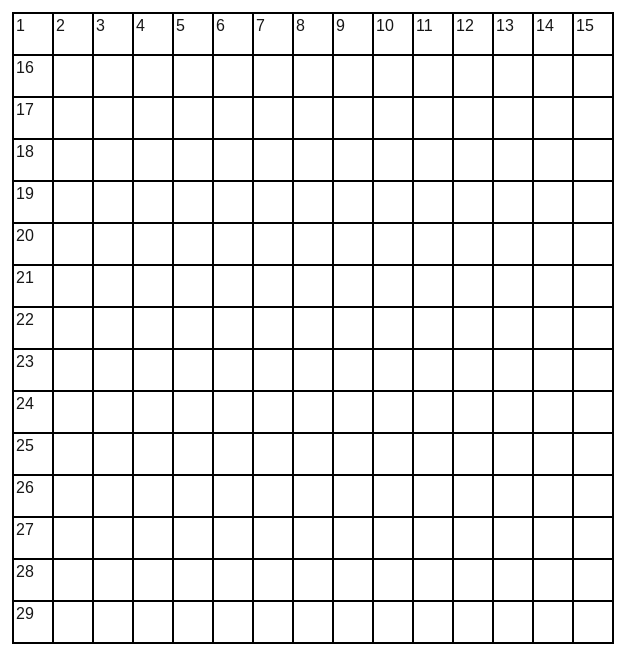
Test: Text Edit Mode › converts a letter entered in the grid to uppercase
Click the 1st field with test id "crossword-input". click: point(34, 34)
box: [14,14,54,54]
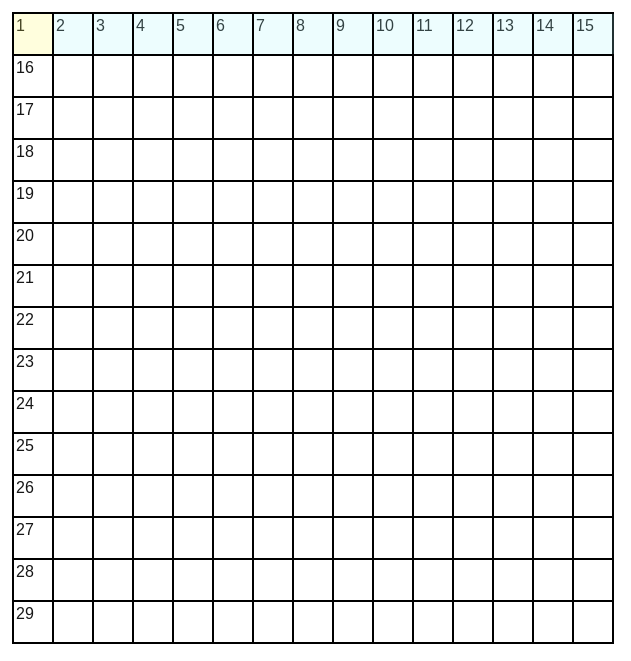
Type keys "a"
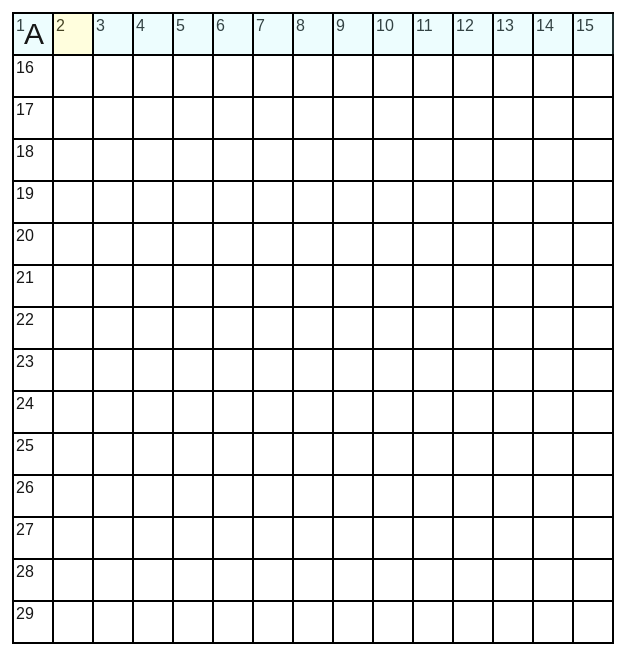
Now the 1st field with test id "crossword-input" holds "A", box [14,14,54,54]
